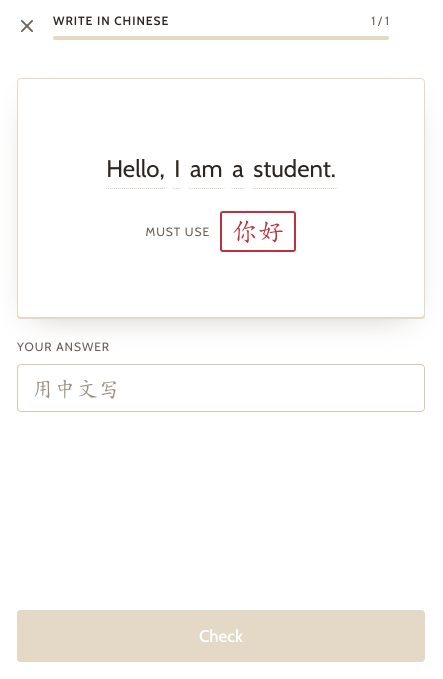
Scenario: SentenceWrite — translation feature › presses a tapped word, and releases it on a second tap
This screenshot has width=443, height=679.
Step 1. Click the button with aria-label "student.: show Chinese" → [294, 170], box [251,150,338,189]
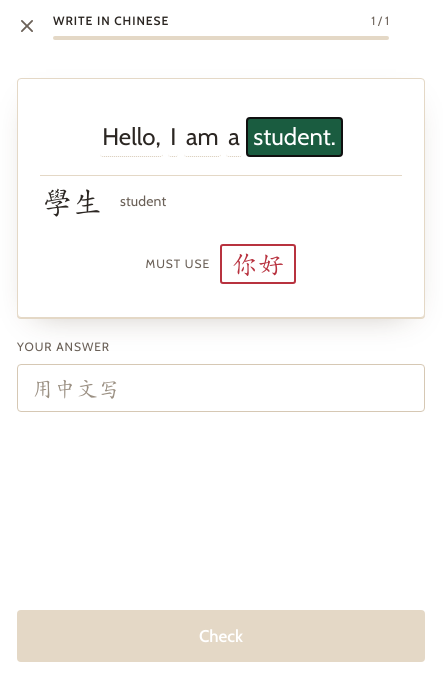
Check: the button with aria-label "student.: show Chinese" is pressed
Step 2. Click the button with aria-label "student.: show Chinese" → [294, 137], box [247,118,342,156]
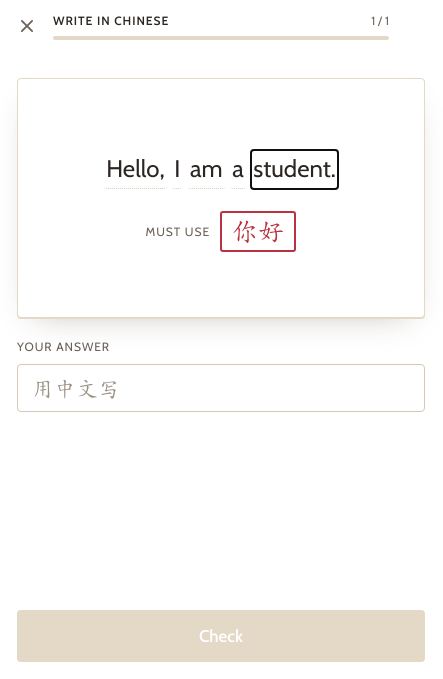
Check: the text "學生" is gone
